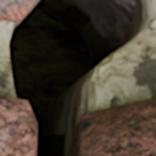broken_brick: (82, 97, 155, 155), (0, 95, 34, 155), (0, 0, 34, 23)
crack: (2, 0, 154, 155)
